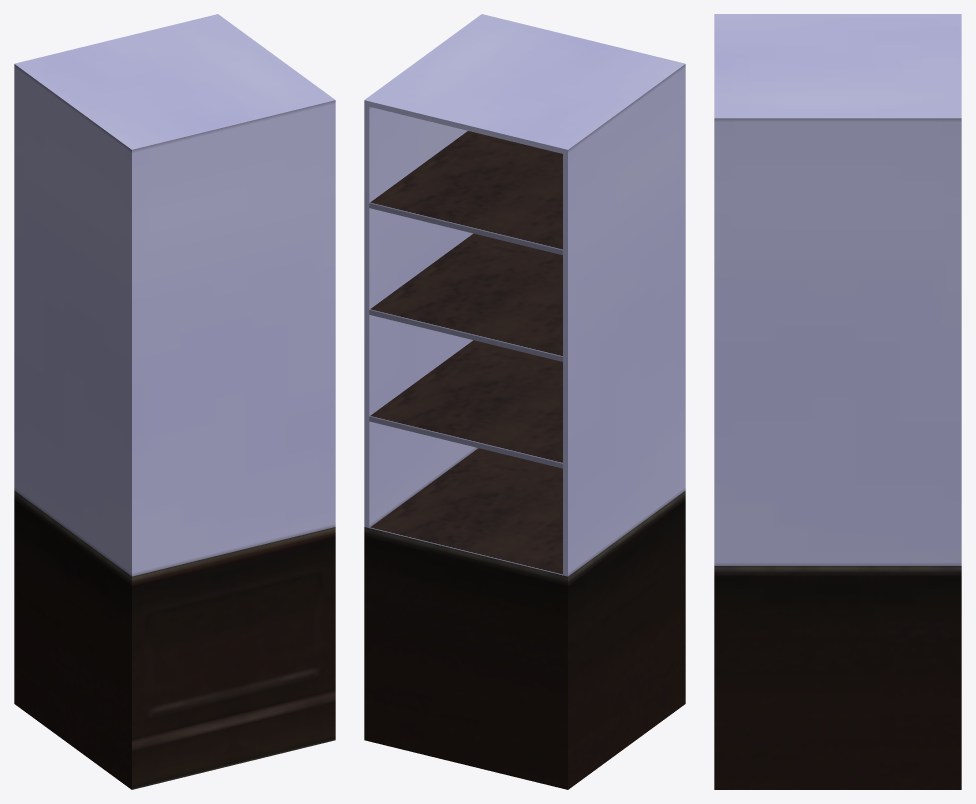
File: DisplayCounter02.obj
3 renders of one model, left to right at view 1: azimuth 30°, elevation 25°; view 2: azimuth 150°, elevation 25°; view 3: azimuth 270°, elevation 25°, orthographic. The views are drawn at different scales.
Parts seen in each view (by area): view 1: DisplayCounter02; view 2: DisplayCounter02; view 3: DisplayCounter02.
Part boxes in pixels (bbox=[...]): DisplayCounter02: bbox=[14, 14, 335, 789]; DisplayCounter02: bbox=[364, 14, 685, 789]; DisplayCounter02: bbox=[714, 14, 961, 789].
Size of the model in its own units: 0.65 by 1.95 by 0.65.
